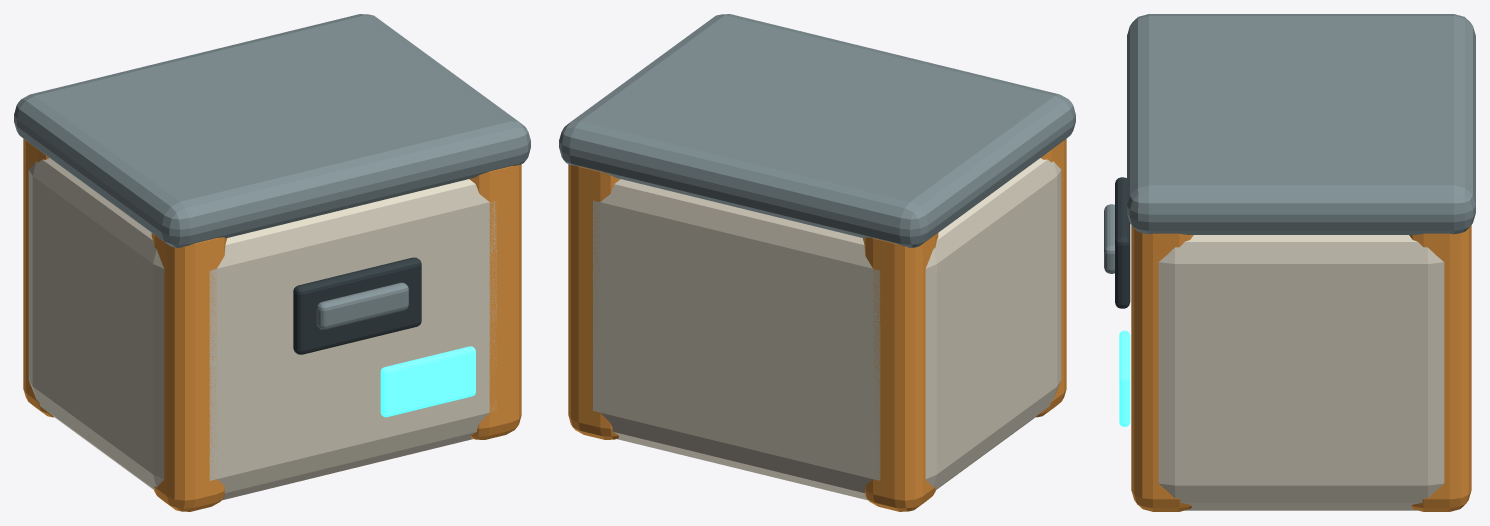
Rendered from crate.glb.
The picture shows the model from 3 angles, left to right: view 1: azimuth 30°, elevation 25°; view 2: azimuth 150°, elevation 25°; view 3: azimuth 270°, elevation 25°; orthographic projection. The views are drawn at different scales.
Parts seen in each view (by area): view 1: crate__ivory, crate__steel, crate__orange, crate__rubber, crate__cyan; view 2: crate__ivory, crate__steel, crate__orange; view 3: crate__steel, crate__ivory, crate__orange, crate__rubber, crate__cyan.
Boxes of the visible parts, x1=… form: crate__ivory: x1=28, y1=158, x2=496, y2=500; crate__steel: x1=14, y1=14, x2=530, y2=329; crate__orange: x1=23, y1=139, x2=521, y2=511; crate__rubber: x1=293, y1=257, x2=421, y2=354; crate__cyan: x1=380, y1=346, x2=475, y2=417; crate__ivory: x1=593, y1=158, x2=1061, y2=500; crate__steel: x1=559, y1=14, x2=1075, y2=247; crate__orange: x1=568, y1=139, x2=1066, y2=511; crate__steel: x1=1104, y1=14, x2=1475, y2=273; crate__ivory: x1=1158, y1=235, x2=1444, y2=510; crate__orange: x1=1131, y1=225, x2=1471, y2=511; crate__rubber: x1=1115, y1=177, x2=1130, y2=308; crate__cyan: x1=1119, y1=330, x2=1130, y2=426.
Bounding box in the file's own units: 1.02 × 0.84 × 0.8525.
